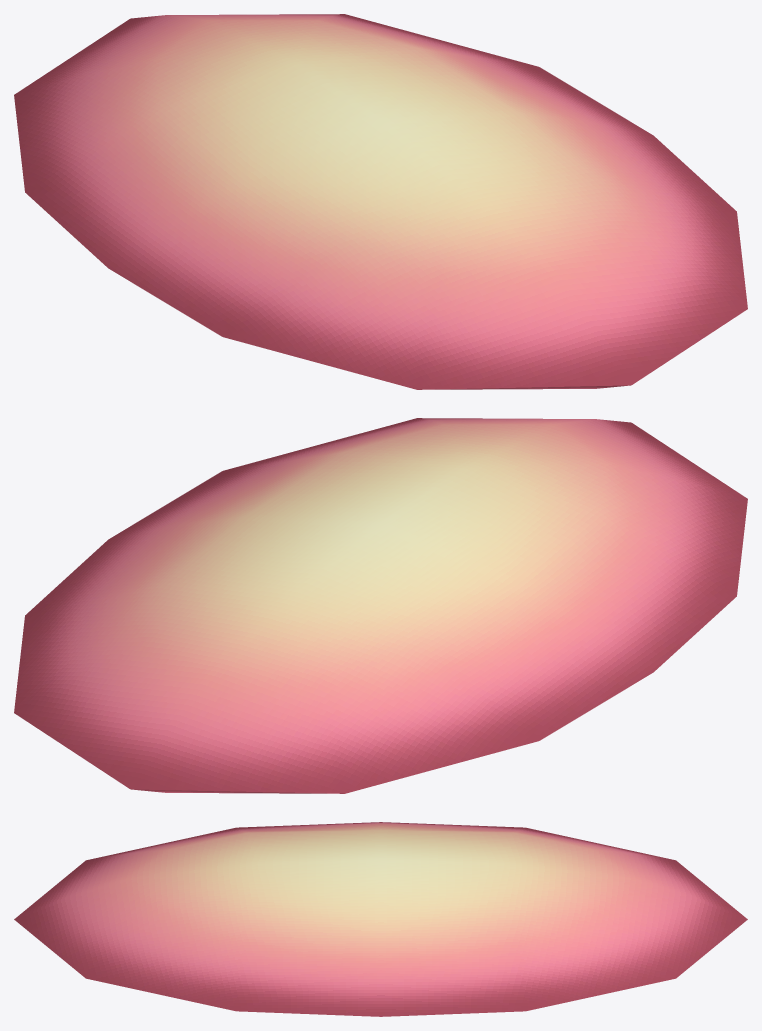
File: M14_enemy_shot.fbx
The picture shows the model from 3 angles, top to bottom: view 1: azimuth 30°, elevation 25°; view 2: azimuth 150°, elevation 25°; view 3: azimuth 270°, elevation 25°; orthographic projection. The views are drawn at different scales.
Visible parts, largest first — view 1: M14_enemy_shot_model; view 2: M14_enemy_shot_model; view 3: M14_enemy_shot_model.
Boxes of the visible parts, x1,y1,x2,y2 form: M14_enemy_shot_model: [14, 14, 747, 389]; M14_enemy_shot_model: [14, 418, 747, 793]; M14_enemy_shot_model: [14, 822, 747, 1016].
Bounding box in the file's own units: 1.67 × 0.4734 × 2.66.
